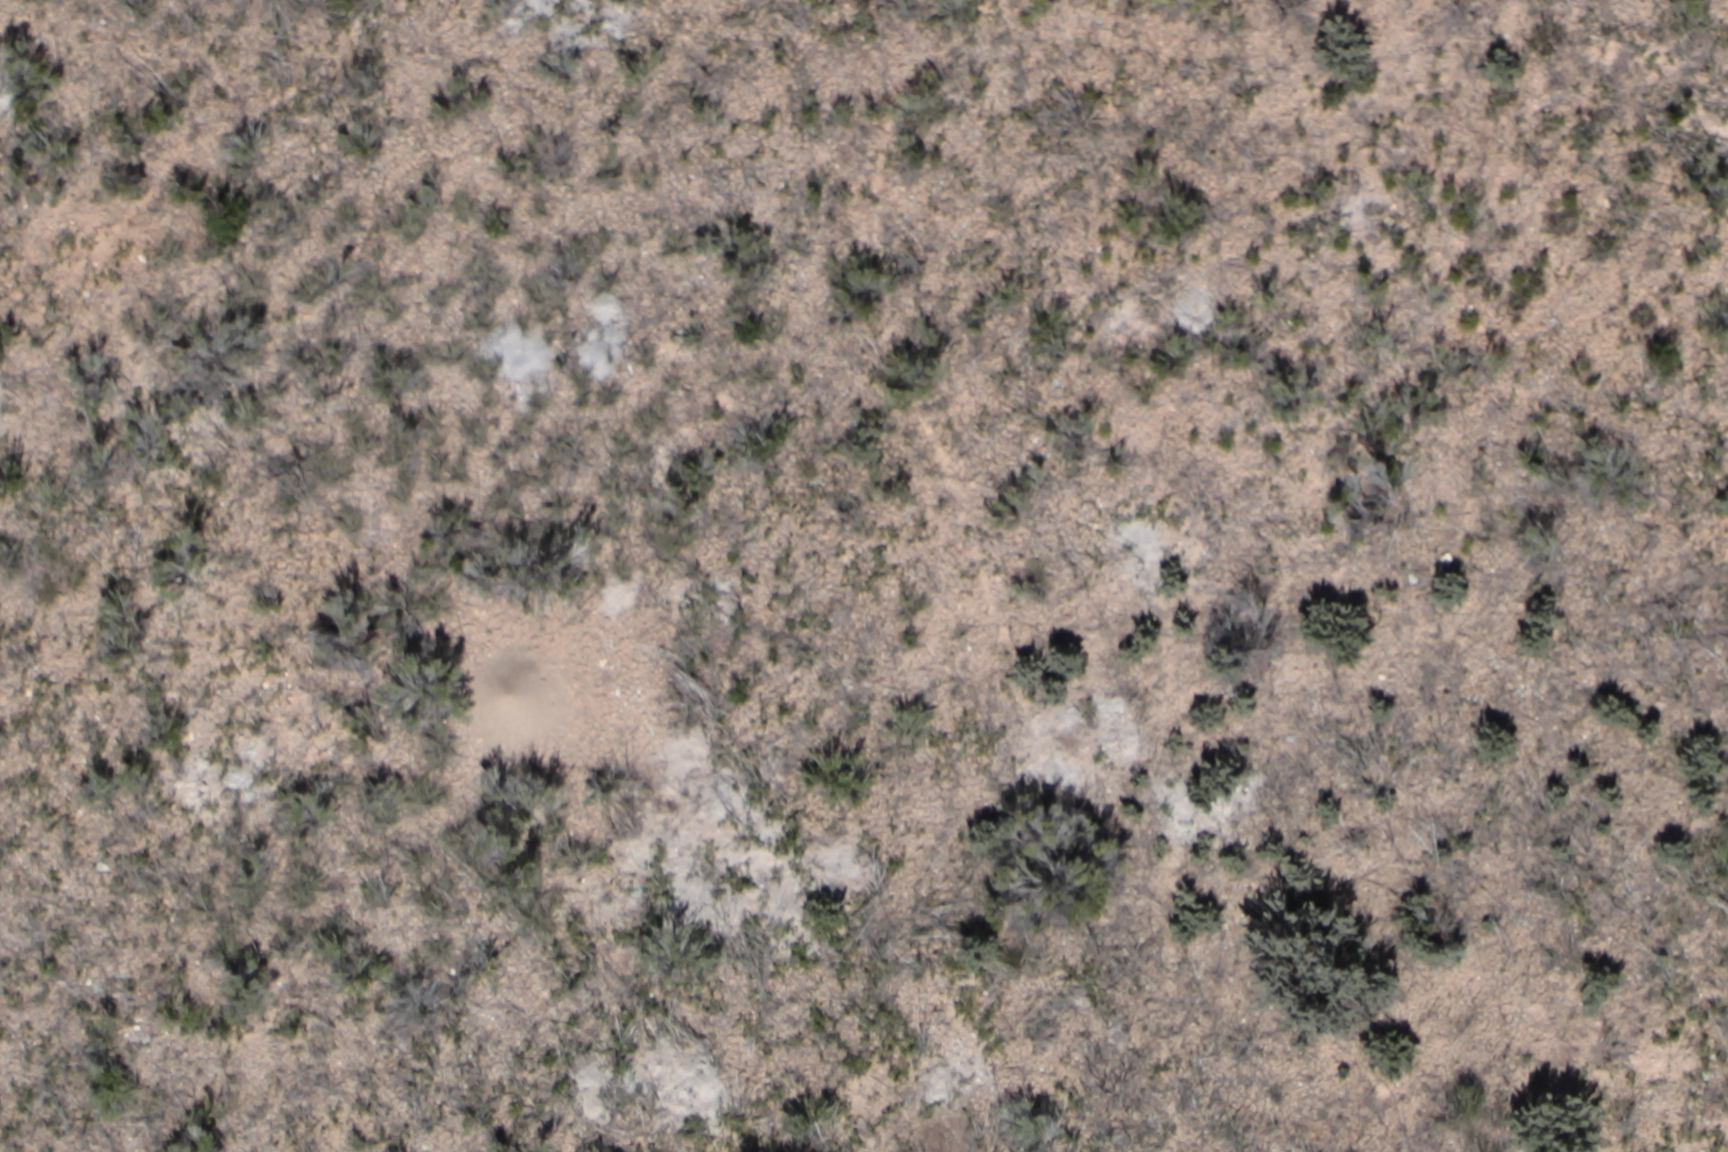burrow: (455, 645, 562, 746)
